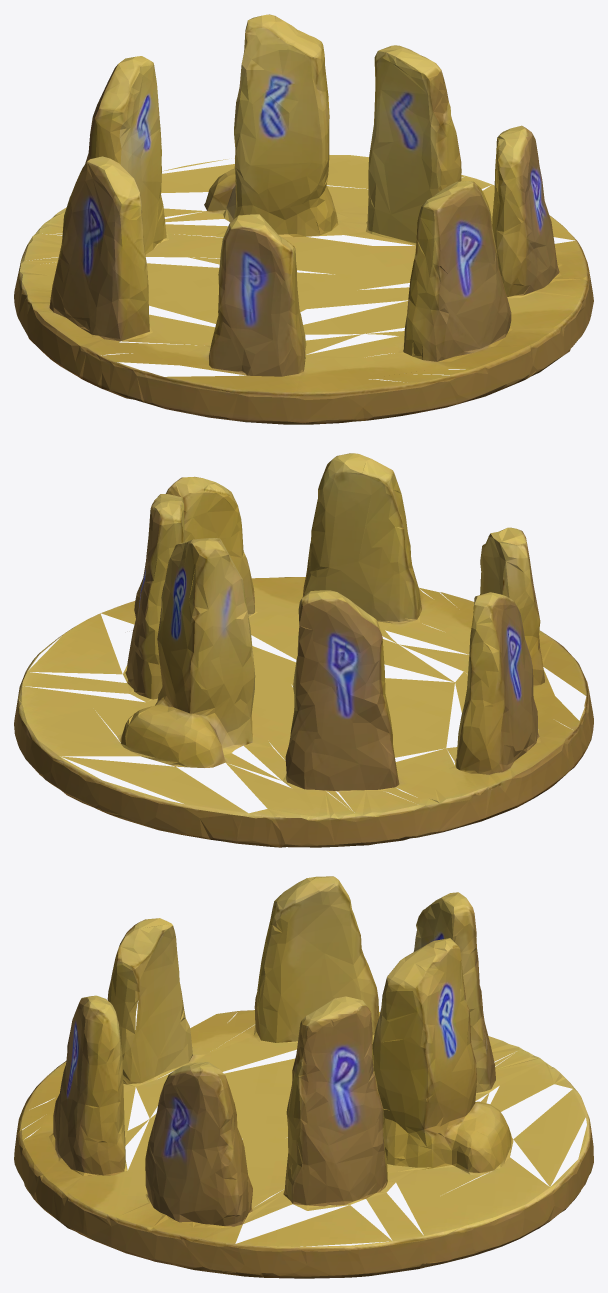
Rendered from rune_ring.glb.
The picture shows the model from 3 angles, top to bottom: view 1: azimuth 30°, elevation 25°; view 2: azimuth 150°, elevation 25°; view 3: azimuth 270°, elevation 25°; orthographic projection.
Visible parts, largest first — view 1: geometry_0; view 2: geometry_0; view 3: geometry_0.
Part boxes in pixels (left/top/right/bottom): geometry_0: left=14, top=14, right=593, bottom=424; geometry_0: left=14, top=453, right=593, bottom=847; geometry_0: left=14, top=876, right=593, bottom=1278.
Size of the model in its own units: 1.7 by 0.749 by 1.7.
Materials: 1 (1 with a texture image).
